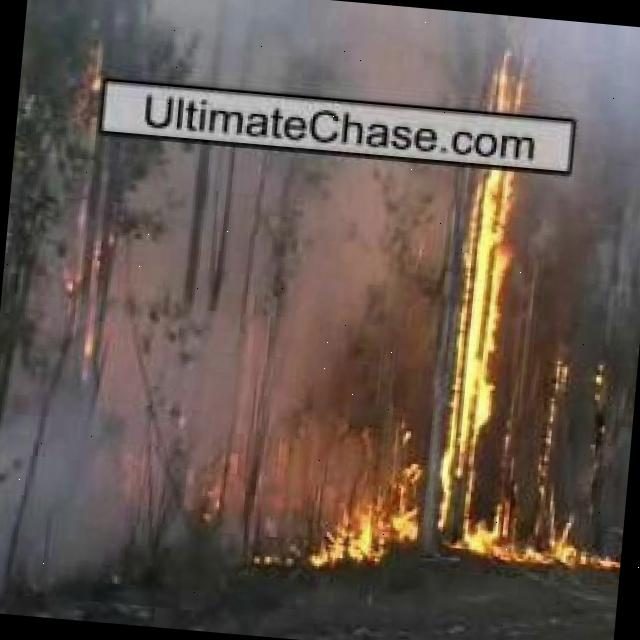fire: (437, 61, 535, 555), (318, 495, 432, 581), (527, 522, 616, 574)
